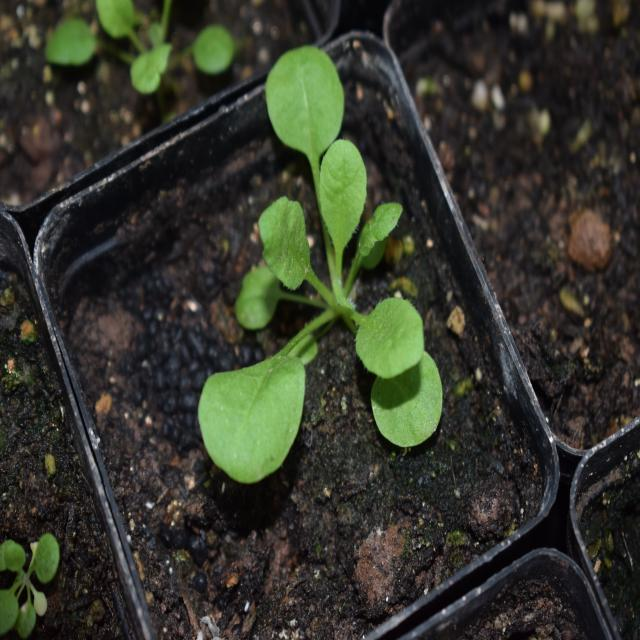Shepherd_Purse: (190, 37, 442, 482)
